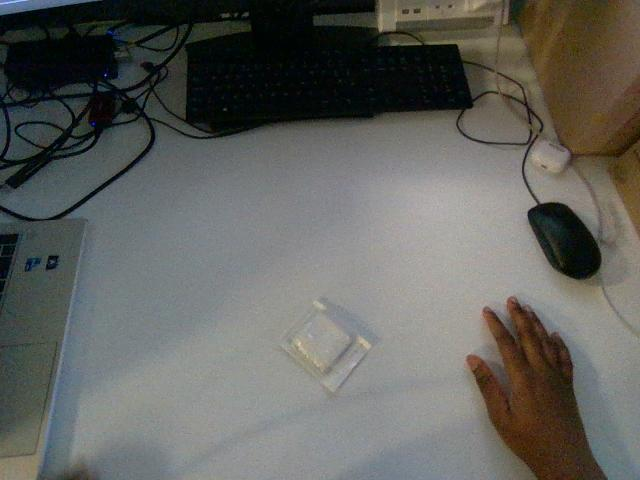gauze: (281, 299, 370, 392)
